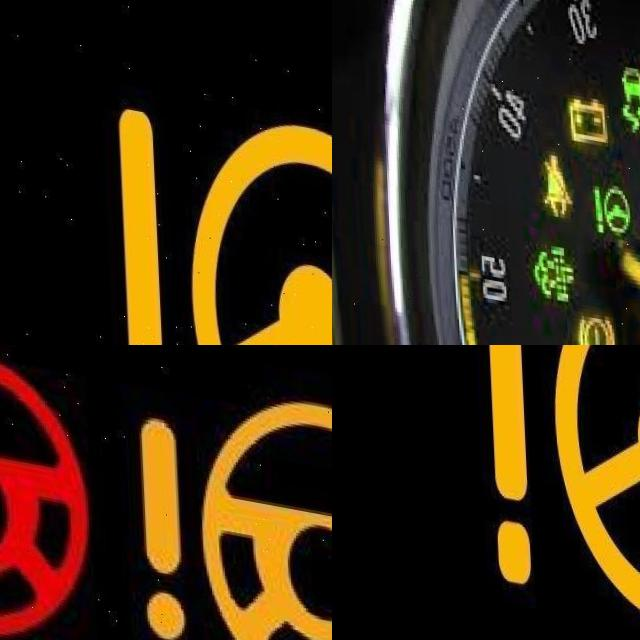Electronic Power Steering: (480, 345, 640, 634)
Electronic Power Steering Warning: (113, 83, 332, 345), (132, 359, 332, 640), (0, 345, 85, 640)
Seat Belt: (536, 139, 573, 212)
